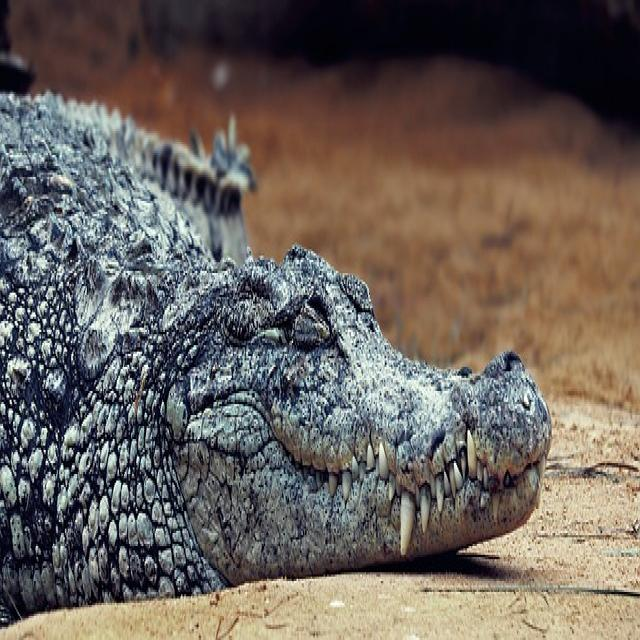Carnivorous: (0, 83, 554, 631)
